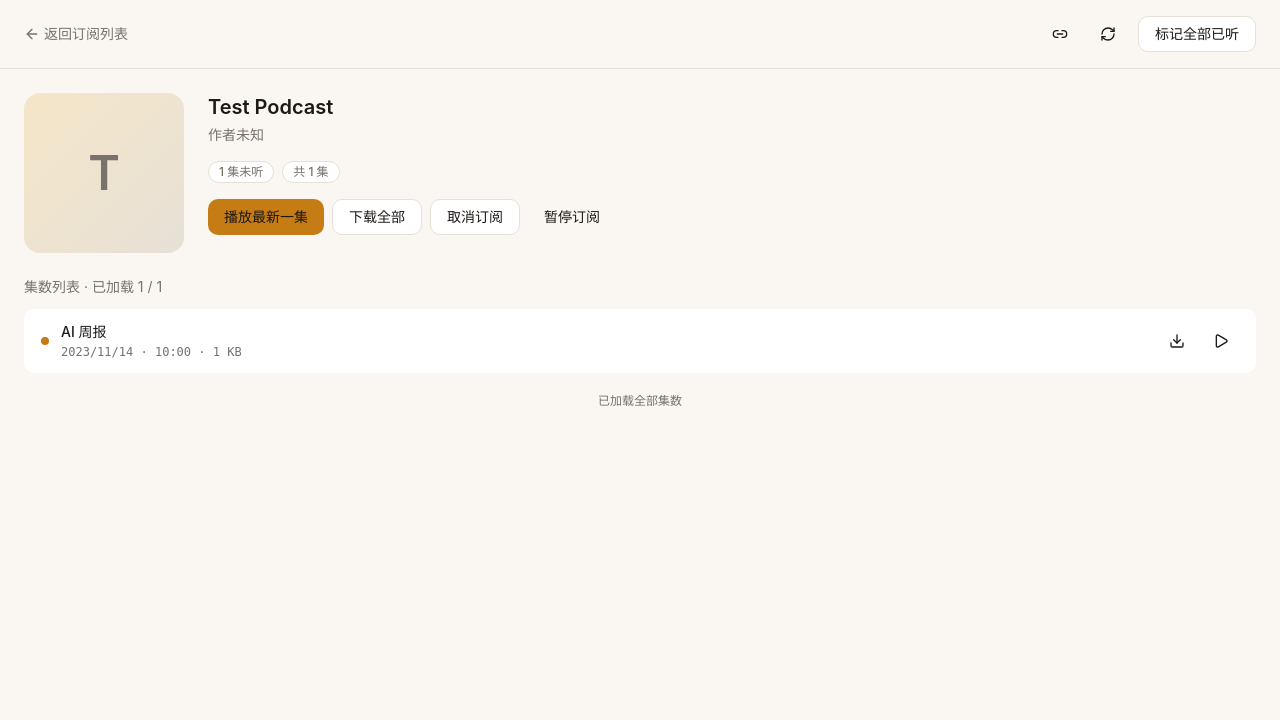
it: PodcastDetailPage copy link › shows a single copied toast from the episode context menu
Right-click the text "AI 周报" at (84, 332), box [61,323,106,340]
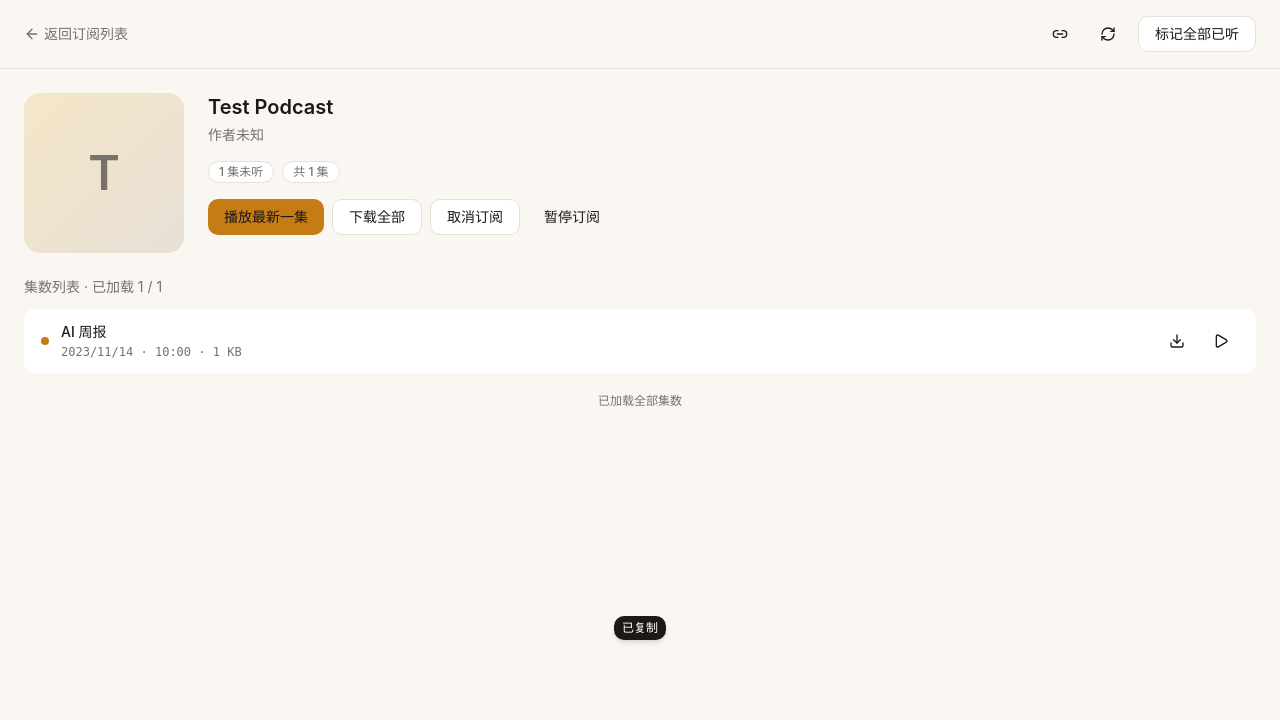
Result: the text "已复制" is shown once at [614,616,666,640]
